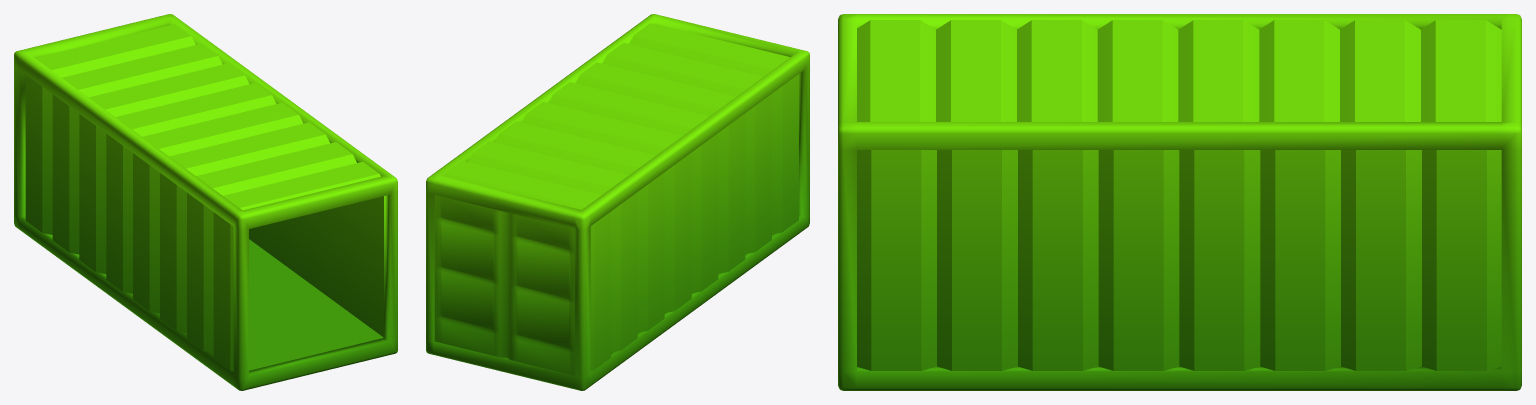
File: Prop_Container_02.fbx
3 renders of one model, left to right at view 1: azimuth 30°, elevation 25°; view 2: azimuth 150°, elevation 25°; view 3: azimuth 270°, elevation 25°, orthographic. The views are drawn at different scales.
Parts seen in each view (by area): view 1: Prop_Container_02; view 2: Prop_Container_02; view 3: Prop_Container_02.
Part boxes in pixels (x1,y1,x2,y2): Prop_Container_02: [14, 14, 397, 390]; Prop_Container_02: [426, 14, 809, 390]; Prop_Container_02: [838, 14, 1521, 390].
Size of the model in its own units: 199 by 209 by 491.
